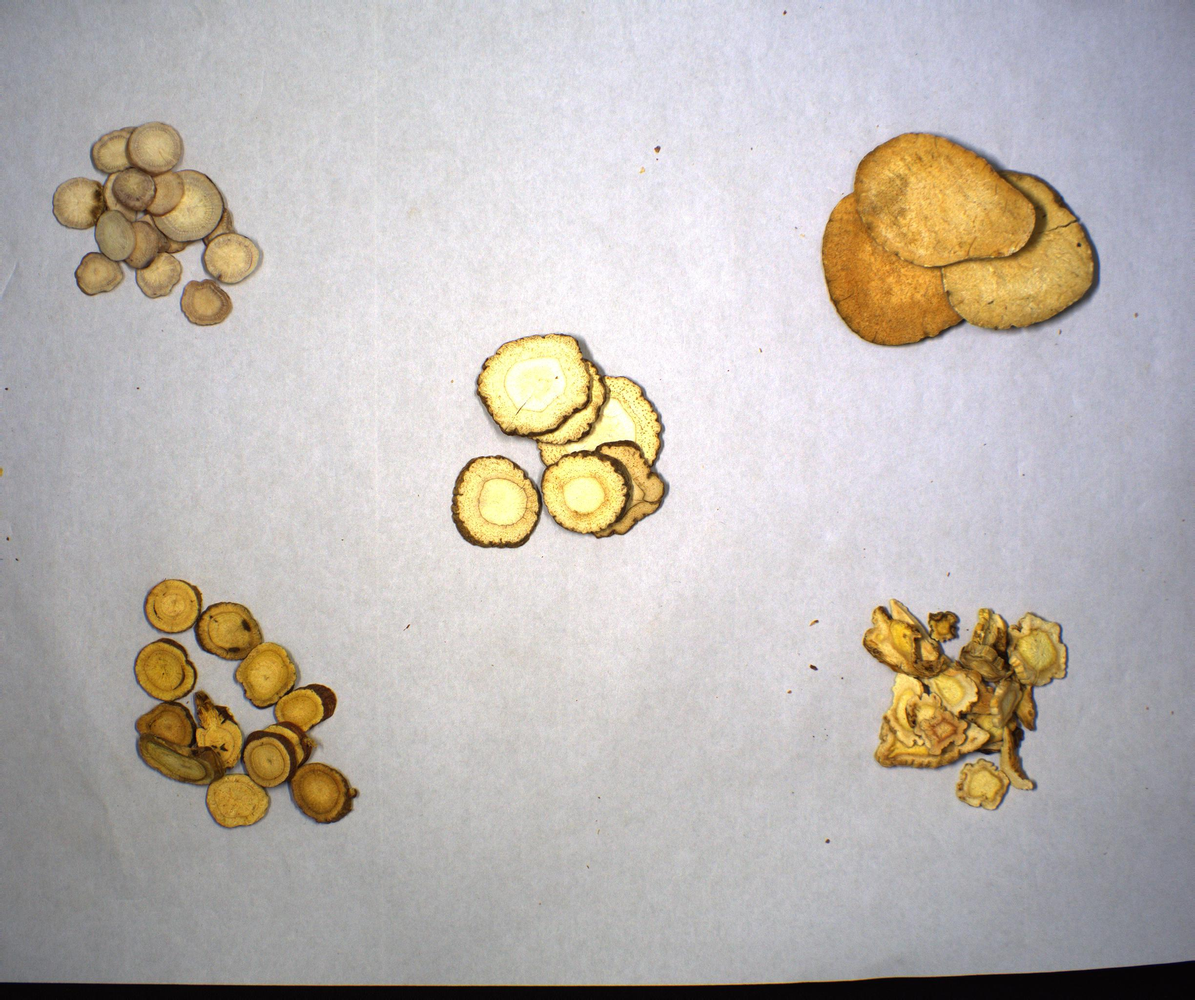baishao: (52, 116, 263, 325)
baizhi: (447, 332, 668, 548)
gancaopian: (114, 574, 353, 822)
jiegeng: (863, 593, 1073, 809)
zexie: (813, 127, 1102, 344)
